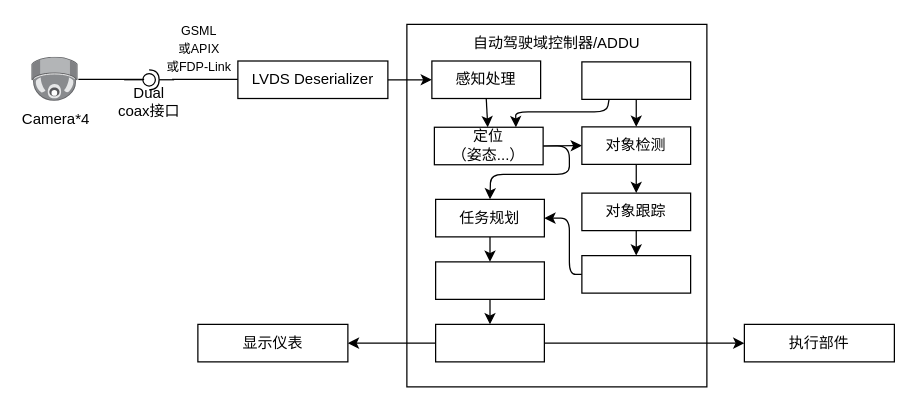
This 916x409 diagram has some shape labels left out. The shapes that lost their labels are listed below. From the top down, each one's centre as x and y in pixels, then its label:
At (x=636, y=80): "路面数据映射".
At (x=489, y=280): "行动规划".
At (x=636, y=273): "重投影".
At (x=489, y=342): "轨迹规划".
